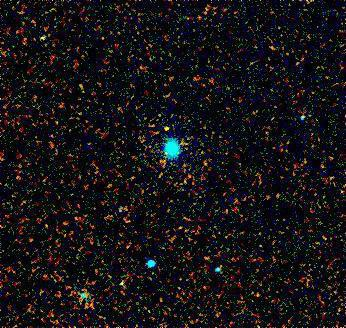star: (150, 115, 180, 145)
